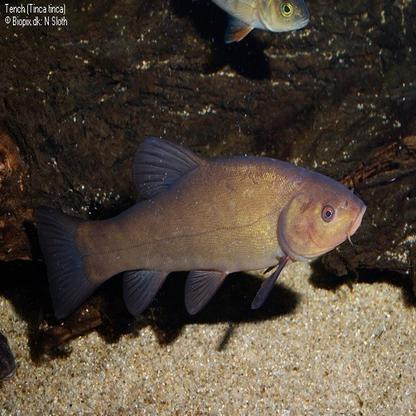fish: (33, 135, 367, 322)
